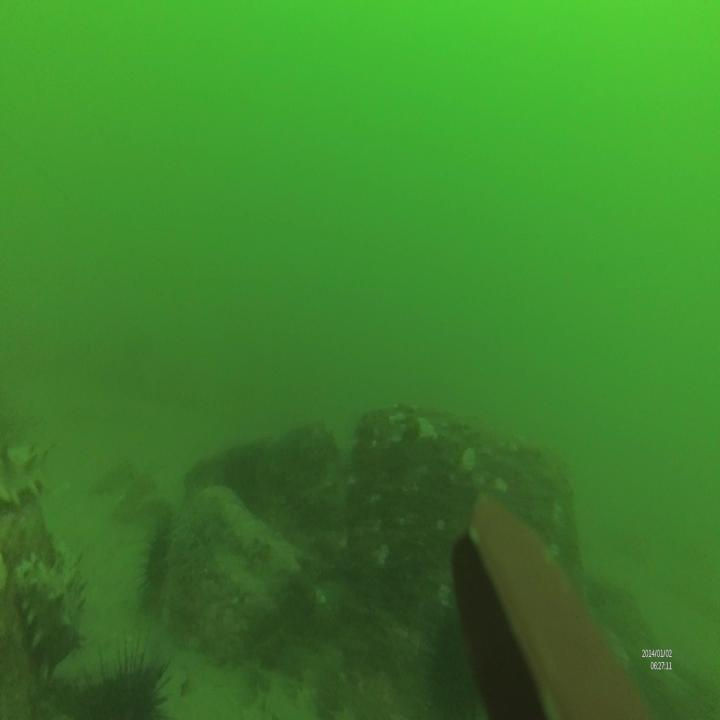echinus: (75, 623, 176, 720), (140, 506, 180, 602)
holothurian: (15, 549, 90, 670), (2, 473, 47, 508)
